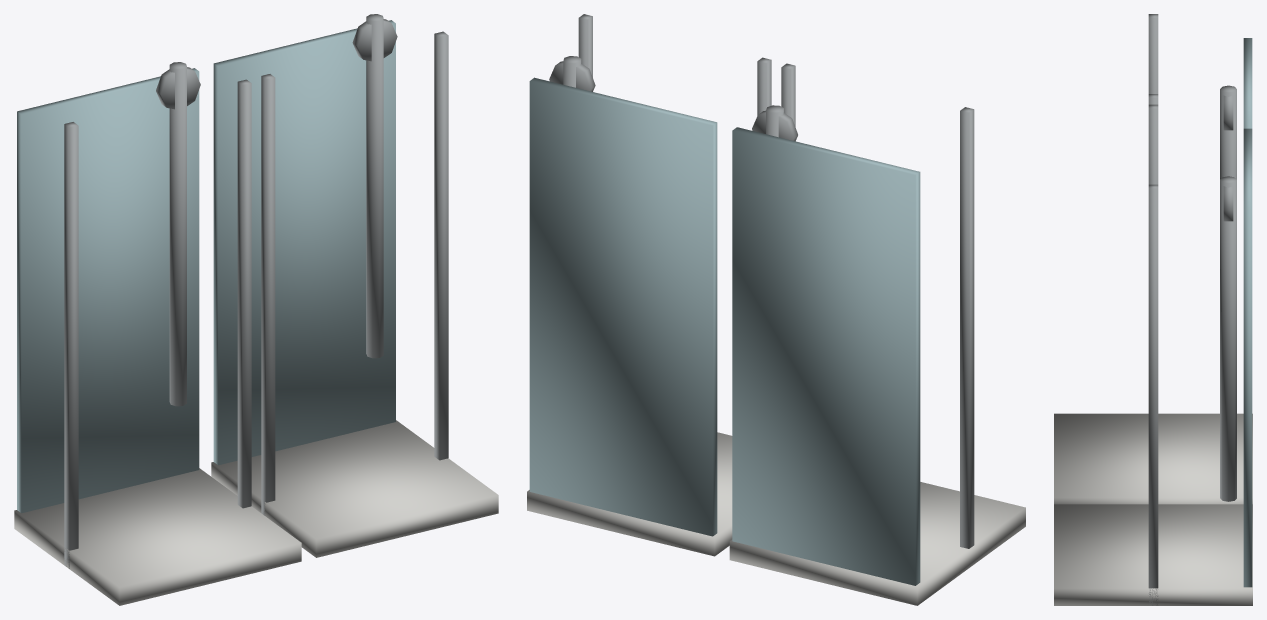
The model's file is shower_stall__cluster.glb.
The picture shows the model from 3 angles, left to right: view 1: azimuth 30°, elevation 25°; view 2: azimuth 150°, elevation 25°; view 3: azimuth 270°, elevation 25°; orthographic projection. The views are drawn at different scales.
Visible parts, largest first — view 1: world; view 2: world; view 3: world.
Boxes of the visible parts, left/top/right/bottom form: world: left=14, top=14, right=498, bottom=605; world: left=527, top=14, right=1025, bottom=605; world: left=1054, top=14, right=1252, bottom=605.
Bounding box in the file's own units: 1.71 × 1.9 × 0.82.
